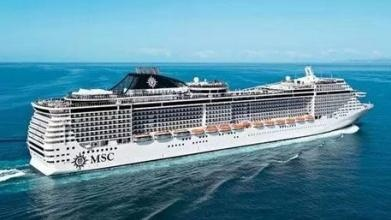youlun: (6, 63, 375, 173)
